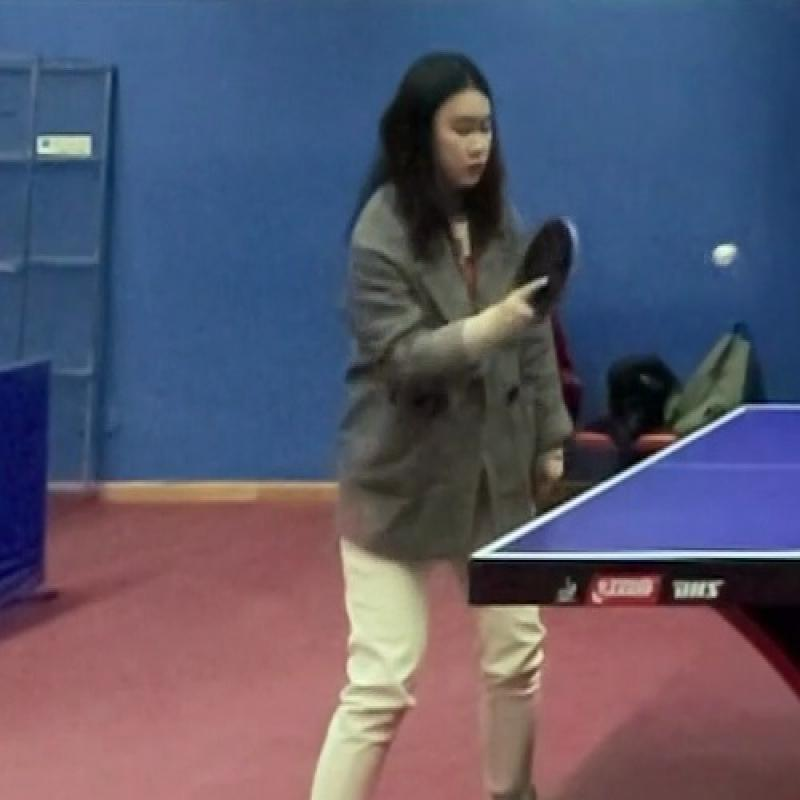bats: (509, 219, 604, 328)
